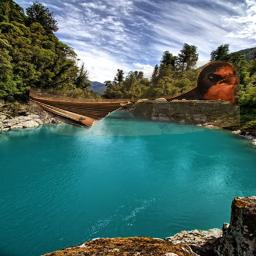Swallow: (29, 60, 240, 136)
